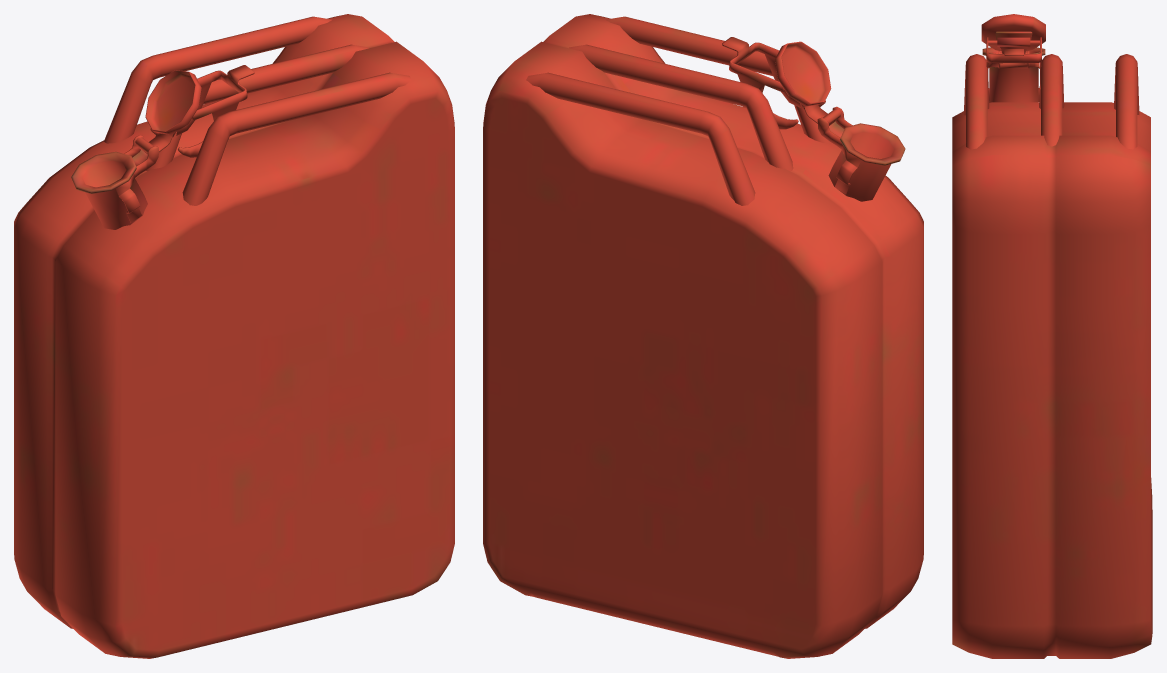
The model's file is fuelcan.glb.
The picture shows the model from 3 angles, left to right: view 1: azimuth 30°, elevation 25°; view 2: azimuth 150°, elevation 25°; view 3: azimuth 270°, elevation 25°; orthographic projection. The views are drawn at different scales.
Visible parts, largest first — view 1: Gas_Canister, Cap, Cap_lock; view 2: Gas_Canister, Cap, Cap_lock; view 3: Gas_Canister, Cap, Cap_lock.
Boxes of the visible parts, <box> form: Gas_Canister: <box>14,14,454,658</box>; Cap: <box>135,70,201,153</box>; Cap_lock: <box>150,65,254,157</box>; Gas_Canister: <box>483,14,923,658</box>; Cap: <box>775,41,841,125</box>; Cap_lock: <box>722,37,825,129</box>; Gas_Canister: <box>952,47,1152,658</box>; Cap: <box>981,14,1045,63</box>; Cap_lock: <box>986,37,1041,89</box>.
Bounding box in the file's own units: 0.3429 × 0.5019 × 0.1664.
Materials: 1 (1 with a texture image).
